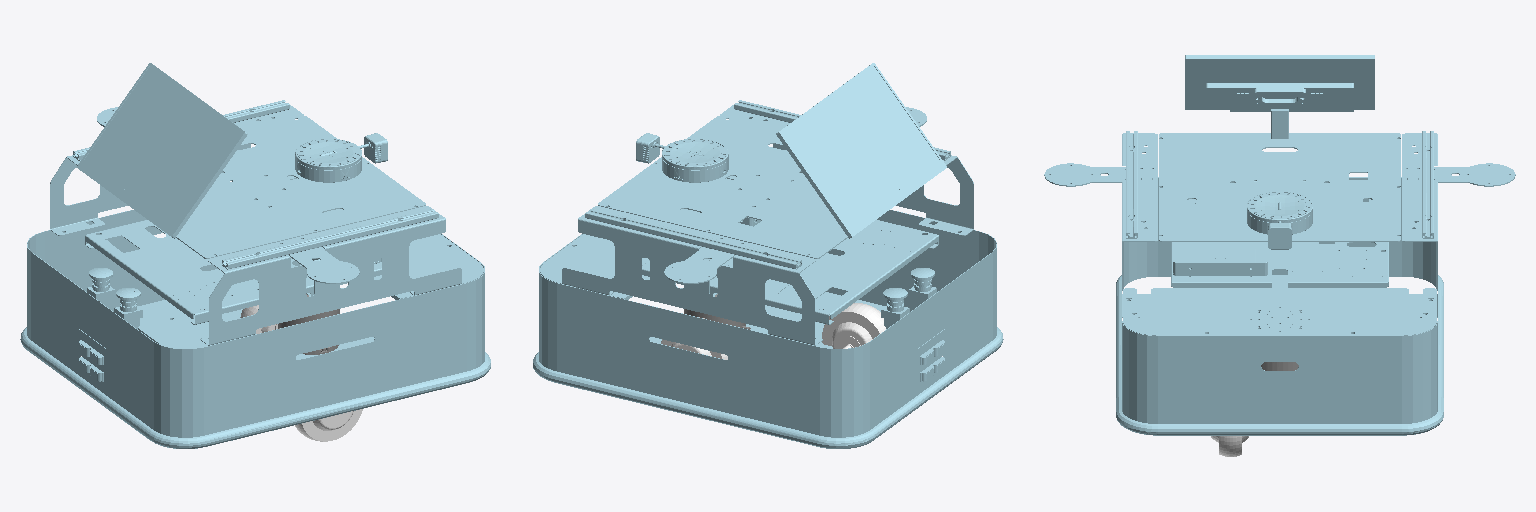
robot.urdf — lucsys_lsv550_akm:
<?xml version="1.0" encoding="utf-8"?>
<robot name="lucsys_lsv550_akm">
  <link name="base_link">
    <inertial>
      <origin xyz="-0.0110433387782798 0.00276685441311947 0.0410022330200752" rpy="0 0 0" />
      <mass value="0.615535458832811" />
      <inertia ixx="0.00109033759487232" ixy="-2.28207446863102E-06" ixz="-1.36249048041868E-05" iyy="0.00182350249943942" iyz="7.50013898821029E-07" izz="0.00272063031666609" />
    </inertial>
    <visual>
      <origin xyz="0 0 0" rpy="0 0 0" />
      <geometry>
        <mesh filename="package://lucsys_lsv550_description/meshes/lsv550_akm/base_link.STL" />
      </geometry>
      <material name="lucsys_material_0">
        <color rgba="0.741176470588235 0.901960784313726 0.956862745098039 1" />
      </material>
    </visual>
    <collision>
      <origin xyz="0 0 0" rpy="0 0 0" />
      <geometry>
        <mesh filename="package://lucsys_lsv550_description/meshes/lsv550_akm/base_link.STL" />
      </geometry>
    </collision>
  </link>
  <link name="laser_link">
    <inertial>
      <origin xyz="0.0037632088127475 -2.06697583141069E-05 0.00474768104523521" rpy="0 0 0" />
      <mass value="0.057830101833014" />
      <inertia ixx="3.4507104093221E-05" ixy="8.28206446199136E-08" ixz="-1.04628936889599E-06" iyy="3.98542740770754E-05" iyz="-4.8996851389614E-09" izz="5.38409737226242E-05" />
    </inertial>
    <visual>
      <origin xyz="0 0 0" rpy="0 0 0" />
      <geometry>
        <mesh filename="package://lucsys_lsv550_description/meshes/lsv550_akm/laser_link.STL" />
      </geometry>
      <material name="lucsys_material_1">
        <color rgba="0.627450980392157 0.627450980392157 0.627450980392157 1" />
      </material>
    </visual>
    <collision>
      <origin xyz="0 0 0" rpy="0 0 0" />
      <geometry>
        <mesh filename="package://lucsys_lsv550_description/meshes/lsv550_akm/laser_link.STL" />
      </geometry>
    </collision>
  </link>
  <joint name="laser_joint" type="fixed">
    <origin xyz="0.10072764400328 0 0.076024183741431" rpy="0 0 0" />
    <parent link="base_link" />
    <child link="laser_link" />
    <axis xyz="0 0 0" />
  </joint>
  <link name="camera_link">
    <inertial>
      <origin xyz="3.4242E-07 1.9641E-07 4.5009E-07" rpy="0 0 0" />
      <mass value="0.056843" />
      <inertia ixx="0.000128" ixy="1.2018E-07" ixz="1.0878E-06" iyy="1.7724E-05" iyz="-2.4191E-08" izz="0.00012928" />
    </inertial>
    <visual>
      <origin xyz="0 0 0" rpy="0 0 0" />
      <geometry>
        <mesh filename="package://lucsys_lsv550_description/meshes/lsv550_akm/camera_link.STL" />
      </geometry>
      <material name="lucsys_material_2">
        <color rgba="0.37647 0.37647 0.37647 1" />
      </material>
    </visual>
    <collision>
      <origin xyz="0 0 0" rpy="0 0 0" />
      <geometry>
        <mesh filename="package://lucsys_lsv550_description/meshes/lsv550_akm/camera_link.STL" />
      </geometry>
    </collision>
  </link>
  <joint name="camera_joint" type="fixed">
    <origin xyz="0.0193116745058398 7.41611063557746E-05 0.141688" rpy="0 0 0" />
    <parent link="base_link" />
    <child link="camera_link" />
    <axis xyz="0 0 0" />
  </joint>
  <link name="controller_link">
    <inertial>
      <origin xyz="0.027057 0.025109 0.014174" rpy="0 0 0" />
      <mass value="0.018106" />
      <inertia ixx="1.3133E-05" ixy="3.0436E-07" ixz="-3.372E-07" iyy="6.8759E-06" iyz="3.2736E-07" izz="1.9248E-05" />
    </inertial>
    <visual>
      <origin xyz="0 0 0" rpy="0 0 0" />
      <geometry>
        <mesh filename="package://lucsys_lsv550_description/meshes/lsv550_akm/controller_link.STL" />
      </geometry>
      <material name="lucsys_material_3">
        <color rgba="0.74118 0.90196 0.95686 1" />
      </material>
    </visual>
    <collision>
      <origin xyz="0 0 0" rpy="0 0 0" />
      <geometry>
        <mesh filename="package://lucsys_lsv550_description/meshes/lsv550_akm/controller_link.STL" />
      </geometry>
    </collision>
  </link>
  <joint name="controller_joint" type="fixed">
    <origin xyz="-0.0778939996927367 -0.022346849136488 0.117000000002309" rpy="0 0 0" />
    <parent link="base_link" />
    <child link="controller_link" />
    <axis xyz="0 0 0" />
  </joint>
  <link name="lb_wheel_link">
    <inertial>
      <origin xyz="4.6582E-08 0.0013656 -1.6116E-08" rpy="0 0 0" />
      <mass value="0.043708" />
      <inertia ixx="1.7943E-05" ixy="2.197E-11" ixz="-1.2129E-12" iyy="3.112E-05" iyz="8.1625E-13" izz="1.7943E-05" />
    </inertial>
    <visual>
      <origin xyz="0 0 0" rpy="0 0 0" />
      <geometry>
        <mesh filename="package://lucsys_lsv550_description/meshes/lsv550_akm/lb_wheel_link.STL" />
      </geometry>
      <material name="lucsys_material_4">
        <color rgba="1 1 1 1" />
      </material>
    </visual>
    <collision>
      <origin xyz="0 0 0" rpy="0 0 0" />
      <geometry>
        <mesh filename="package://lucsys_lsv550_description/meshes/lsv550_akm/lb_wheel_link.STL" />
      </geometry>
    </collision>
  </link>
  <joint name="lb_wheel_joint" type="continuous">
    <origin xyz="-0.0557423258673446 0.080863131909525 0.0140000000038106" rpy="0 0 0" />
    <parent link="base_link" />
    <child link="lb_wheel_link" />
    <axis xyz="0 -1 0" />
  </joint>
  <link name="lf_wheel_link">
    <inertial>
      <origin xyz="3.0572E-09 0.0013656 -5.0378E-08" rpy="0 0 0" />
      <mass value="0.043708" />
      <inertia ixx="1.7943E-05" ixy="1.0069E-11" ixz="3.96E-12" iyy="3.112E-05" iyz="-1.9192E-11" izz="1.7943E-05" />
    </inertial>
    <visual>
      <origin xyz="0 0 0" rpy="0 0 0" />
      <geometry>
        <mesh filename="package://lucsys_lsv550_description/meshes/lsv550_akm/lf_wheel_link.STL" />
      </geometry>
      <material name="lucsys_material_5">
        <color rgba="1 1 1 1" />
      </material>
    </visual>
    <collision>
      <origin xyz="0 0 0" rpy="0 0 0" />
      <geometry>
        <mesh filename="package://lucsys_lsv550_description/meshes/lsv550_akm/lf_wheel_link.STL" />
      </geometry>
    </collision>
  </link>
  <joint name="lf_wheel_joint" type="continuous">
    <origin xyz="0.0875109893806536 0.0807738681965471 0.014000000003155" rpy="0 0 0" />
    <parent link="base_link" />
    <child link="lf_wheel_link" />
    <axis xyz="0 1 0" />
  </joint>
  <link name="rb_wheel_link">
    <inertial>
      <origin xyz="2.593E-08 -0.0013656 -4.3236E-08" rpy="0 0 0" />
      <mass value="0.043708" />
      <inertia ixx="1.7943E-05" ixy="-3.6154E-12" ixz="2.5988E-13" iyy="3.112E-05" iyz="2.1092E-11" izz="1.7943E-05" />
    </inertial>
    <visual>
      <origin xyz="0 0 0" rpy="0 0 0" />
      <geometry>
        <mesh filename="package://lucsys_lsv550_description/meshes/lsv550_akm/rb_wheel_link.STL" />
      </geometry>
      <material name="lucsys_material_6">
        <color rgba="1 1 1 1" />
      </material>
    </visual>
    <collision>
      <origin xyz="0 0 0" rpy="0 0 0" />
      <geometry>
        <mesh filename="package://lucsys_lsv550_description/meshes/lsv550_akm/rb_wheel_link.STL" />
      </geometry>
    </collision>
  </link>
  <joint name="rb_wheel_joint" type="continuous">
    <origin xyz="-0.055742 -0.080867 0.014" rpy="0 0 0" />
    <parent link="base_link" />
    <child link="rb_wheel_link" />
    <axis xyz="0 -1 0" />
  </joint>
  <link name="rf_wheel_link">
    <inertial>
      <origin xyz="-3.4192E-08 -0.0013656 -3.7778E-08" rpy="0 0 0" />
      <mass value="0.043708" />
      <inertia ixx="1.7943E-05" ixy="1.8994E-11" ixz="-2.2402E-12" iyy="3.112E-05" iyz="9.9444E-12" izz="1.7943E-05" />
    </inertial>
    <visual>
      <origin xyz="0 0 0" rpy="0 0 0" />
      <geometry>
        <mesh filename="package://lucsys_lsv550_description/meshes/lsv550_akm/rf_wheel_link.STL" />
      </geometry>
      <material name="lucsys_material_7">
        <color rgba="1 1 1 1" />
      </material>
    </visual>
    <collision>
      <origin xyz="0 0 0" rpy="0 0 0" />
      <geometry>
        <mesh filename="package://lucsys_lsv550_description/meshes/lsv550_akm/rf_wheel_link.STL" />
      </geometry>
    </collision>
  </link>
  <joint name="rf_wheel_joint" type="continuous">
    <origin xyz="0.08753 -0.08083 0.014" rpy="0 0 0" />
    <parent link="base_link" />
    <child link="rf_wheel_link" />
    <axis xyz="0 1 0" />
  </joint>
</robot>

--- What the picture shows (computed from the rendered views, not written in the file) ---
Views: 3 orthographic renders of the robot side by side, from view 1: azimuth 30°, elevation 25°; view 2: azimuth 150°, elevation 25°; view 3: azimuth 270°, elevation 25°.
Model lucsys_lsv550_akm with 8 links and 7 joints (4 continuous, 3 fixed), rooted at base_link, posed all joints at 0.
Links seen in each view (by area): view 1: base_link, rf_wheel_link; view 2: base_link, rb_wheel_link; view 3: base_link, rf_wheel_link.
Boxes of the visible links, box(x1,y1,x2,y2) form: base_link: box(20, 63, 490, 448); rf_wheel_link: box(295, 409, 362, 441); base_link: box(533, 63, 1003, 448); rb_wheel_link: box(822, 303, 885, 348); base_link: box(1044, 55, 1515, 435); rf_wheel_link: box(1211, 436, 1248, 456).
Bounding box of the posed robot: 0.64 × 0.7764 × 0.6334 m (x, y, z).
5 mesh visuals loaded from 8 distinct referenced files (5 binary STL); not drawn: 3 (reference not matched to a file when rendering).
